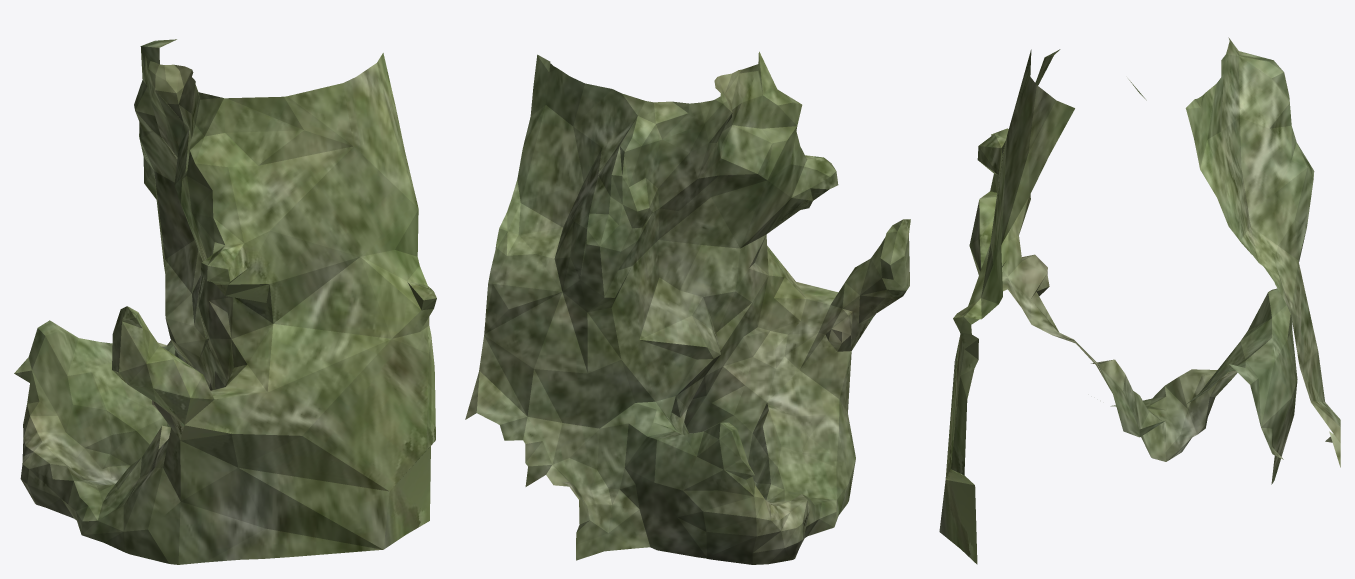
3 views of the same model, side by side, from view 1: azimuth 30°, elevation 25°; view 2: azimuth 150°, elevation 25°; view 3: azimuth 270°, elevation 25° (orthographic). The views are drawn at different scales.
Bounding box in the file's own units: 2.11 × 2.95 × 2.35.
4 materials, 4 textured.
